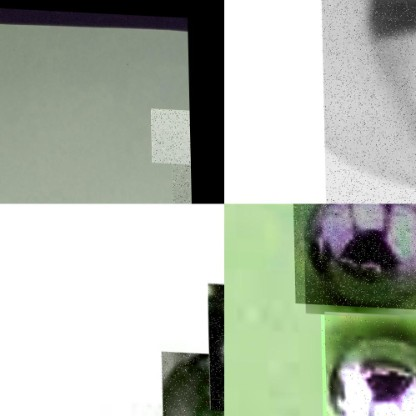ironball: (318, 0, 415, 203), (291, 203, 415, 306), (319, 311, 415, 415), (162, 348, 208, 412)
